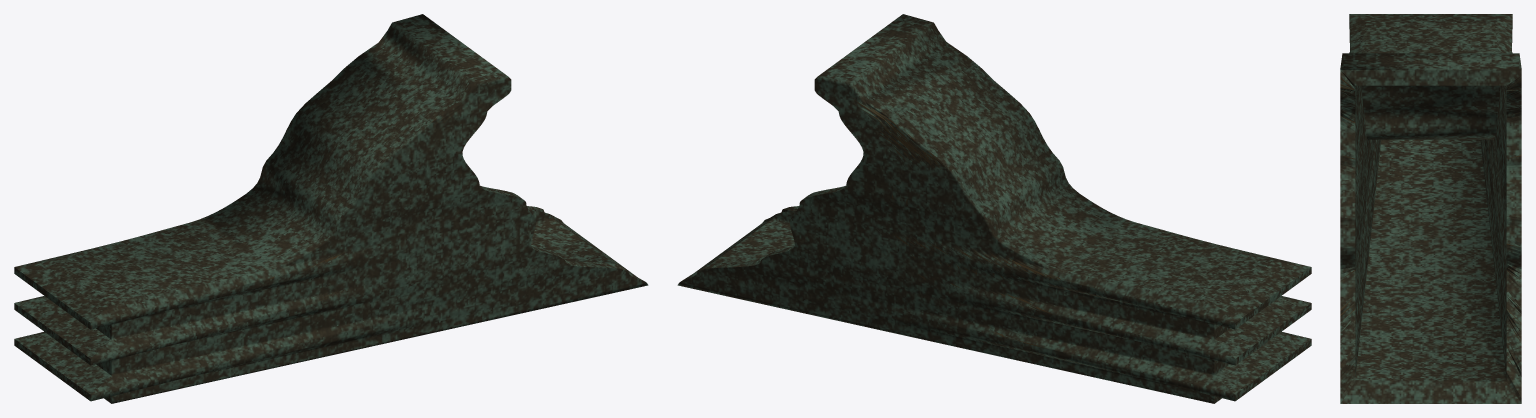
Rendered from NEW693_BronzeRam_LOD1.fbx.
3 renders of one model, left to right at view 1: azimuth 30°, elevation 25°; view 2: azimuth 150°, elevation 25°; view 3: azimuth 270°, elevation 25°, orthographic. The views are drawn at different scales.
Parts seen in each view (by area): view 1: Complete_bronze_ram_artifact_open_aft_socket; view 2: Complete_bronze_ram_artifact_open_aft_socket; view 3: Complete_bronze_ram_artifact_open_aft_socket.
Part boxes in pixels (x1,y1,x2,y2): Complete_bronze_ram_artifact_open_aft_socket: [14, 14, 648, 403]; Complete_bronze_ram_artifact_open_aft_socket: [677, 14, 1311, 403]; Complete_bronze_ram_artifact_open_aft_socket: [1340, 14, 1521, 403].
Size of the model in its own units: 2.26 by 0.95 by 0.6.
Materials: 1 (1 with a texture image).
